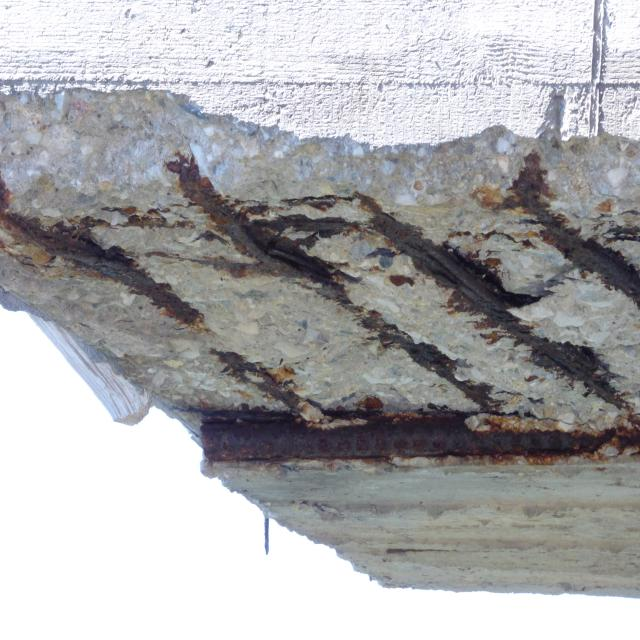corrosion: (546, 65, 548, 67)
